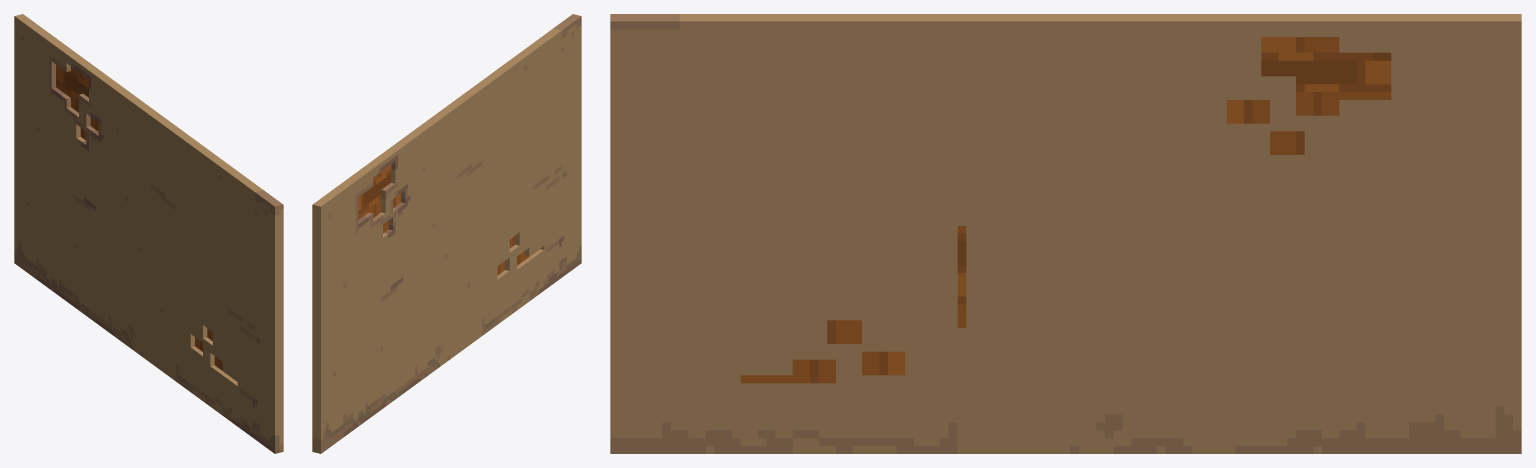
File: House Interior Rooms - Free Sample-3.obj
The picture shows the model from 3 angles, left to right: view 1: azimuth 30°, elevation 25°; view 2: azimuth 150°, elevation 25°; view 3: azimuth 270°, elevation 25°; orthographic projection. The views are drawn at different scales.
Size of the model in its own units: 0.04 by 1.1 by 2.1.
Materials: 1 (1 with a texture image).
